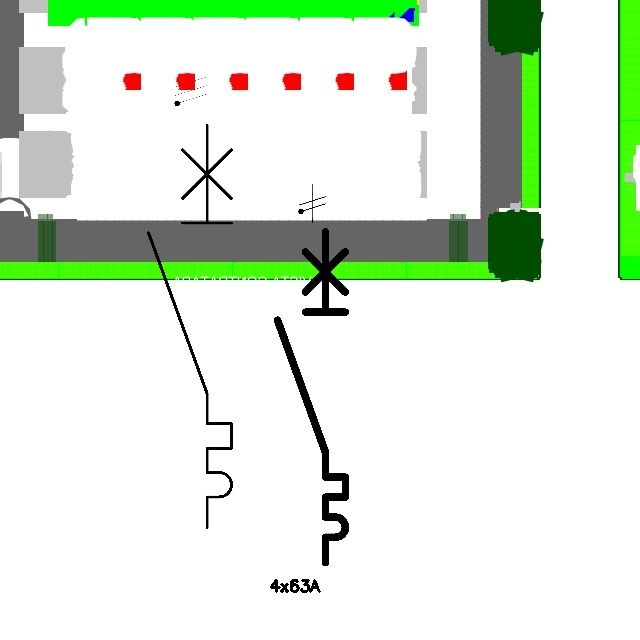interruptor_termomagnetico: (138, 114, 242, 537), (269, 223, 354, 570)
